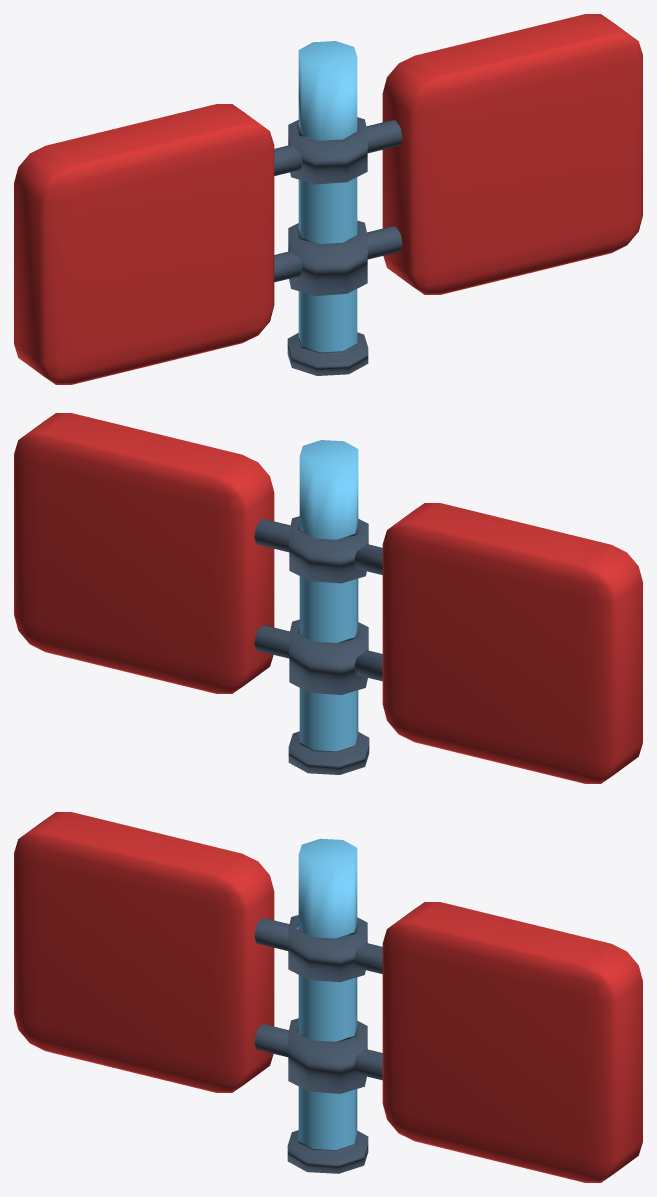
The model's file is rotating_hammer.glb.
The picture shows the model from 3 angles, top to bottom: view 1: azimuth 30°, elevation 25°; view 2: azimuth 150°, elevation 25°; view 3: azimuth 330°, elevation 25°; orthographic projection.
Visible parts, largest first — view 1: Object_127; view 2: Object_127; view 3: Object_127.
Boxes of the visible parts, x1,y1,x2,y2 form: Object_127: [14, 14, 642, 384]; Object_127: [14, 413, 642, 783]; Object_127: [14, 812, 642, 1182].
Size of the model in its own units: 4.03 by 1.95 by 0.4838.
1 material, 1 textured.
